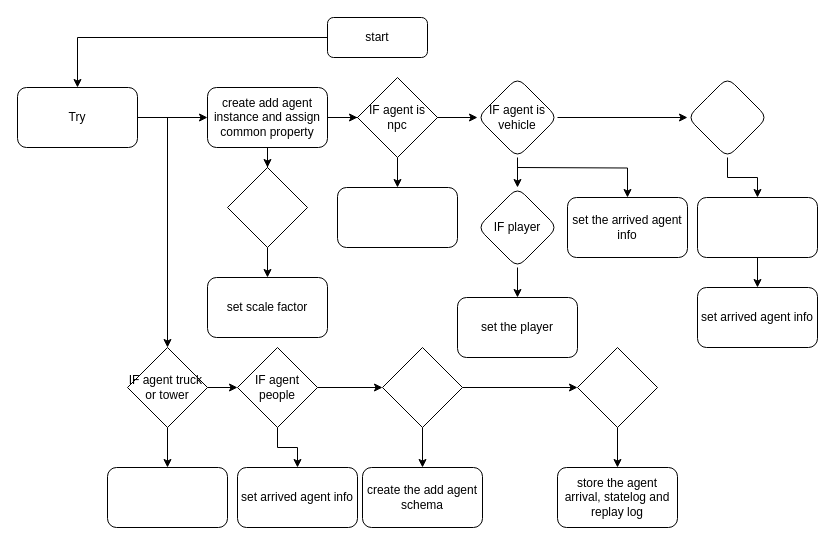
Some shapes in this 835 by 545 pixel diagram are drawn without their labels. Each missing label, with the box of its shape:
IF agent is card: (686, 76, 768, 158)
IF agent is npc,card,vehicle,props: (226, 166, 308, 248)
IF log data not undefined: (576, 346, 658, 428)
IF state undefined: (382, 346, 462, 428)
set the player and opp player: (336, 186, 458, 248)
set the player and set arrived agent info: (106, 466, 228, 528)
set the sight,attack range and player: (696, 196, 818, 258)
